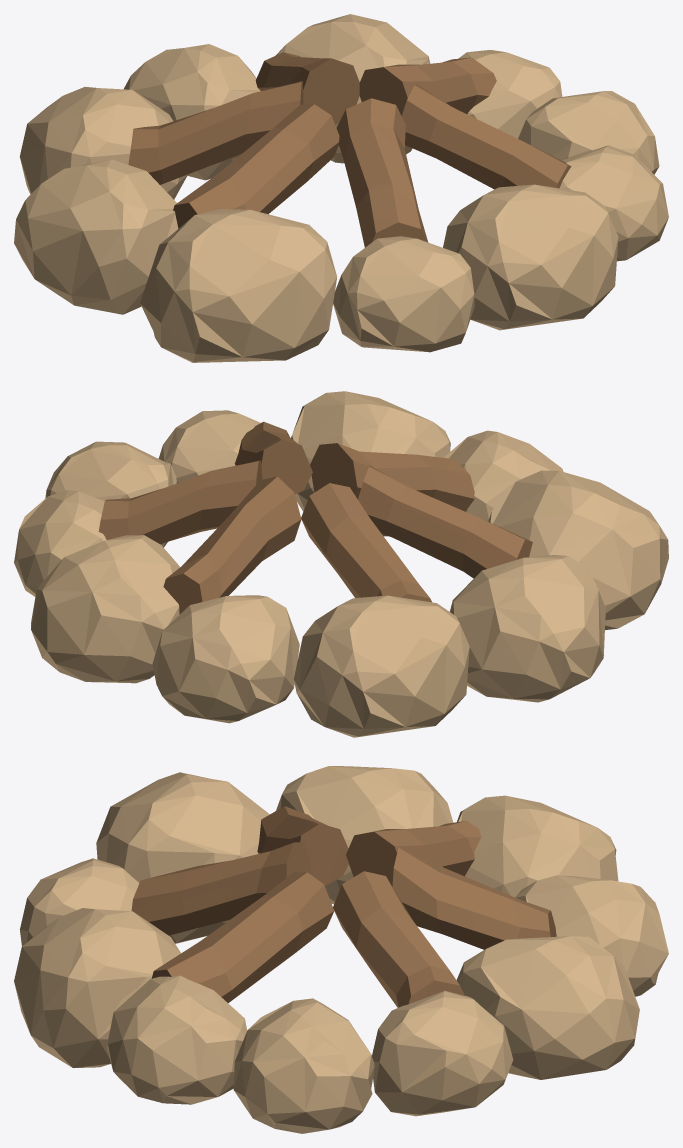
Rendered from camp.glb.
3 renders of one model, top to bottom at view 1: azimuth 30°, elevation 25°; view 2: azimuth 150°, elevation 25°; view 3: azimuth 270°, elevation 25°, orthographic. The views are drawn at different scales.
Parts seen in each view (by area): view 1: Object_2, Object_2.194; view 2: Object_2, Object_2.194; view 3: Object_2, Object_2.194.
Part boxes in pixels (<box>): Object_2: <box>14,14,668,362</box>; Object_2.194: <box>128,52,571,247</box>; Object_2: <box>14,391,668,737</box>; Object_2.194: <box>98,421,532,614</box>; Object_2: <box>14,766,668,1133</box>; Object_2.194: <box>131,806,556,1007</box>.
Bounding box in the file's own units: 2.7 × 0.7302 × 2.5.
